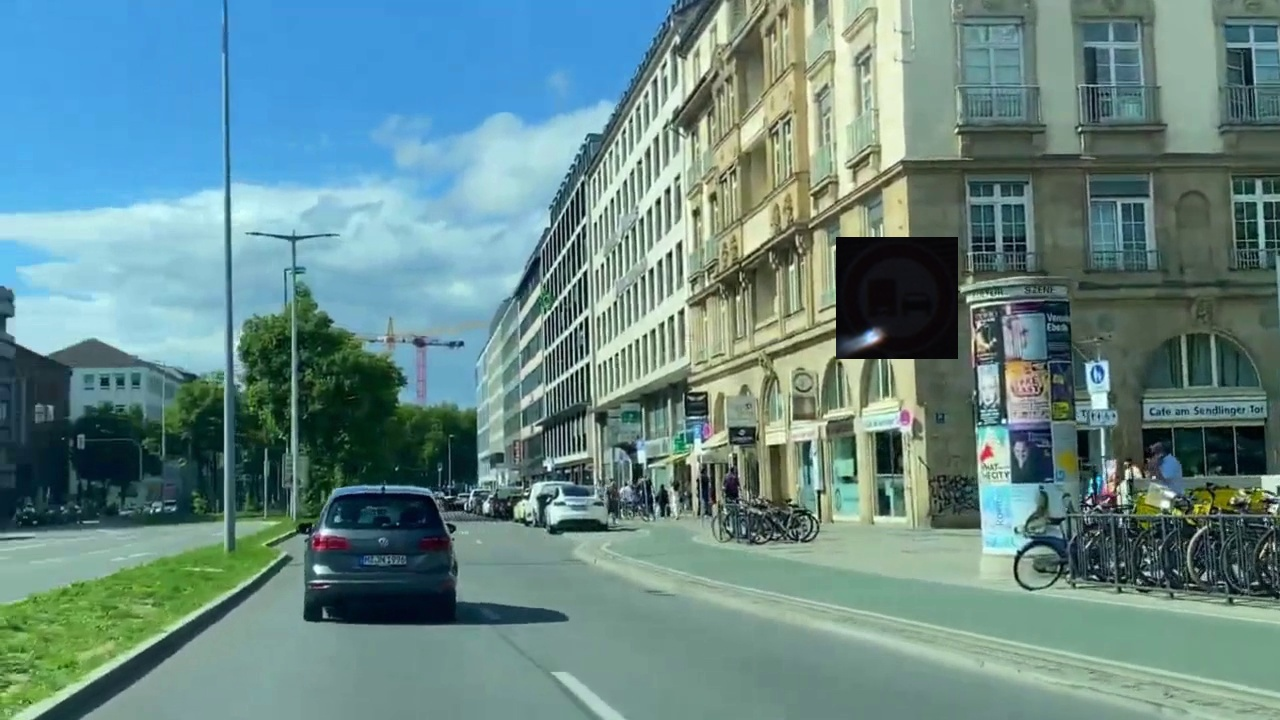No pass >3.5t: (836, 237, 958, 359)
